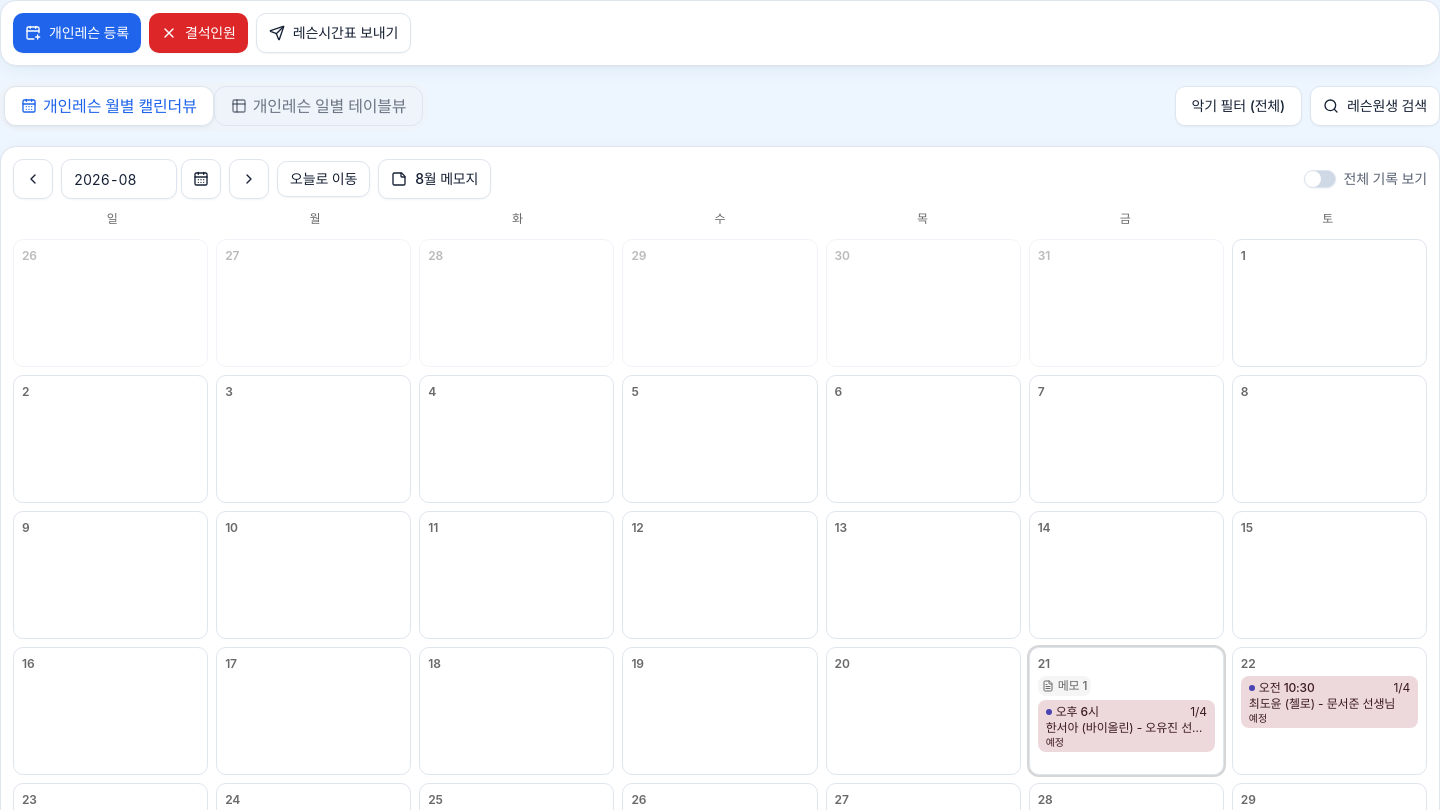
it: 개인레슨 출석 확인과 취소 (명세 3.4) › 등원 확인을 누르면 출석 상태와 현재/총 회차가 보이고, 취소하면 예정으로 돌아가 회차권 복구를 알린다
Click the cell "21 메모 1 오후 6시 1/4 한서아 (바이올린) - 오유진 선생님 예정".
click(1126, 711)  # box [1029,647,1224,775]
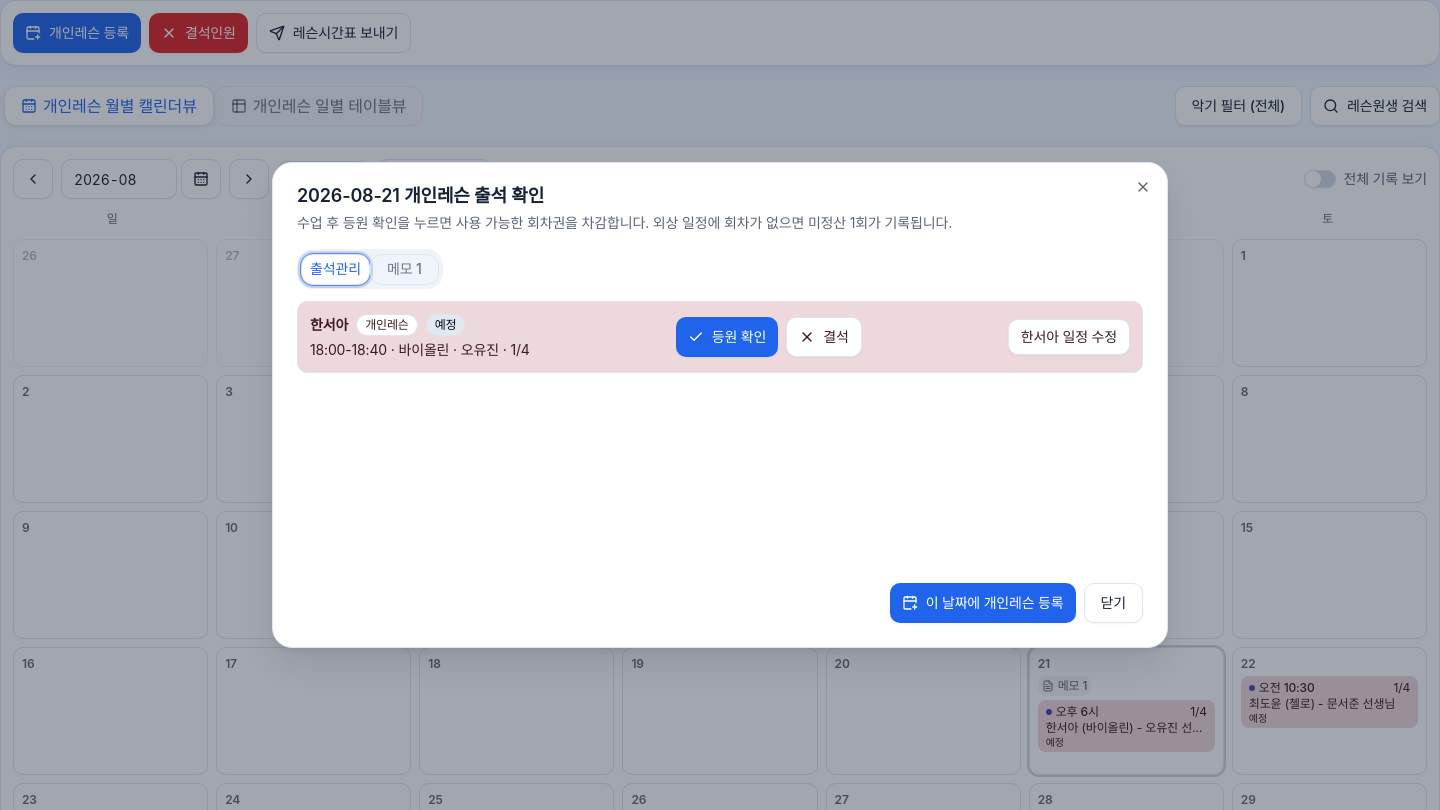
Expected: the button "등원 확인 취소" is not shown
Expected: the text "1/4" is shown, [510,341,530,358]
Click the button with aria-label "한서아 개인레슨 등원 확인".
click(727, 337)  # box [676,317,778,357]
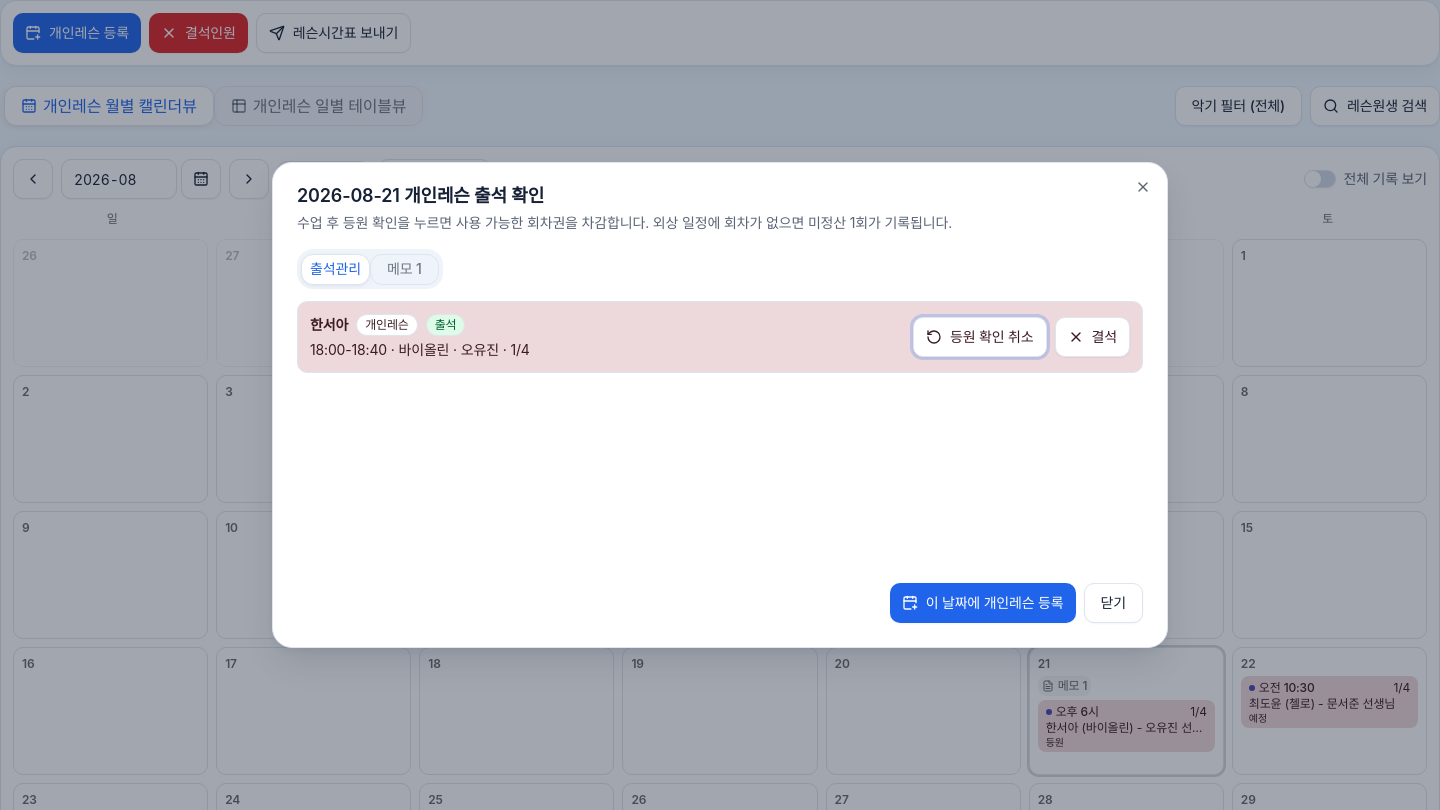
Expected: the text "출석" is shown, [426,314,466,336]
Click the button with aria-label "한서아 개인레슨 등원 확인 취소".
click(980, 337)  # box [913,317,1047,357]
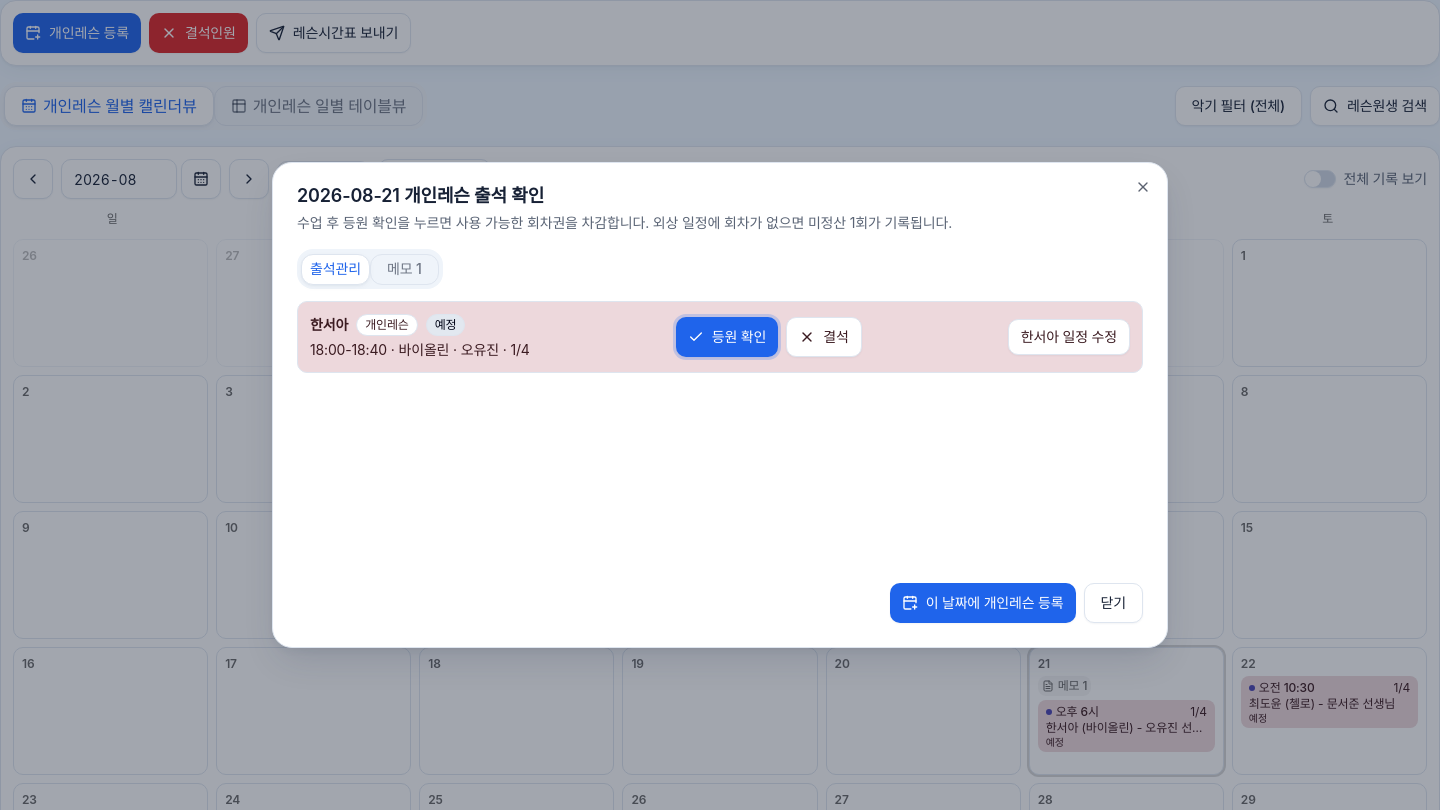
Expected: the button with aria-label "한서아 개인레슨 결석" is enabled, [786,317,862,357]
Expected: the text "예정" is shown, [426,314,466,336]
Expected: the button "등원 확인 취소" is gone
